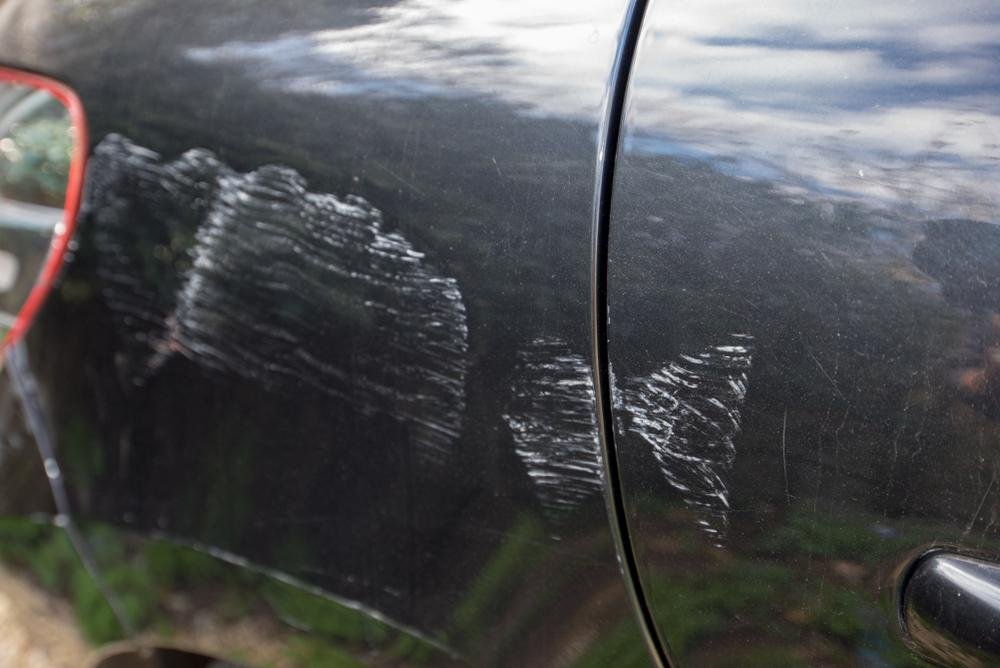scratch: (69, 124, 474, 470), (607, 328, 756, 551), (501, 331, 604, 531)
